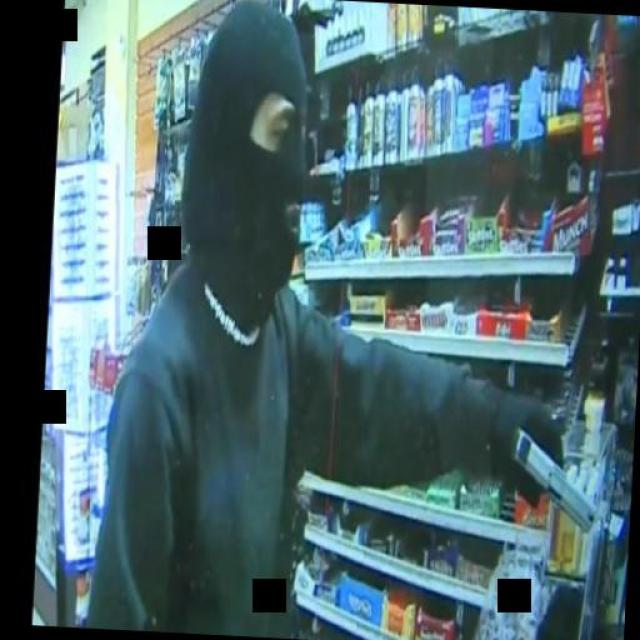gun: (500, 390, 604, 531)
